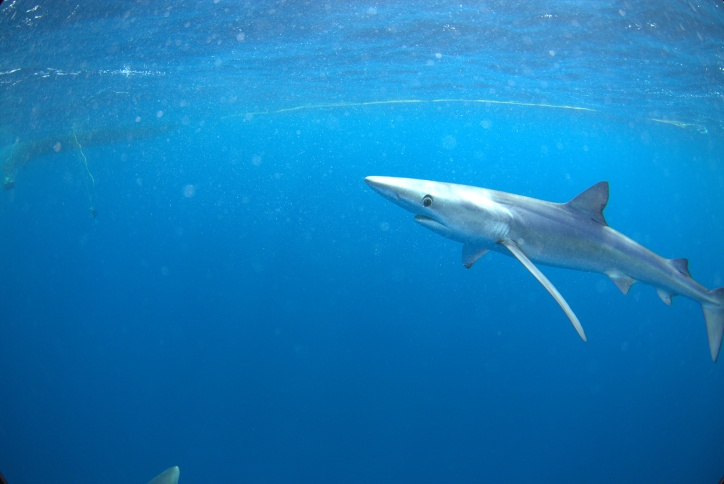Azul: (366, 146, 724, 363)
